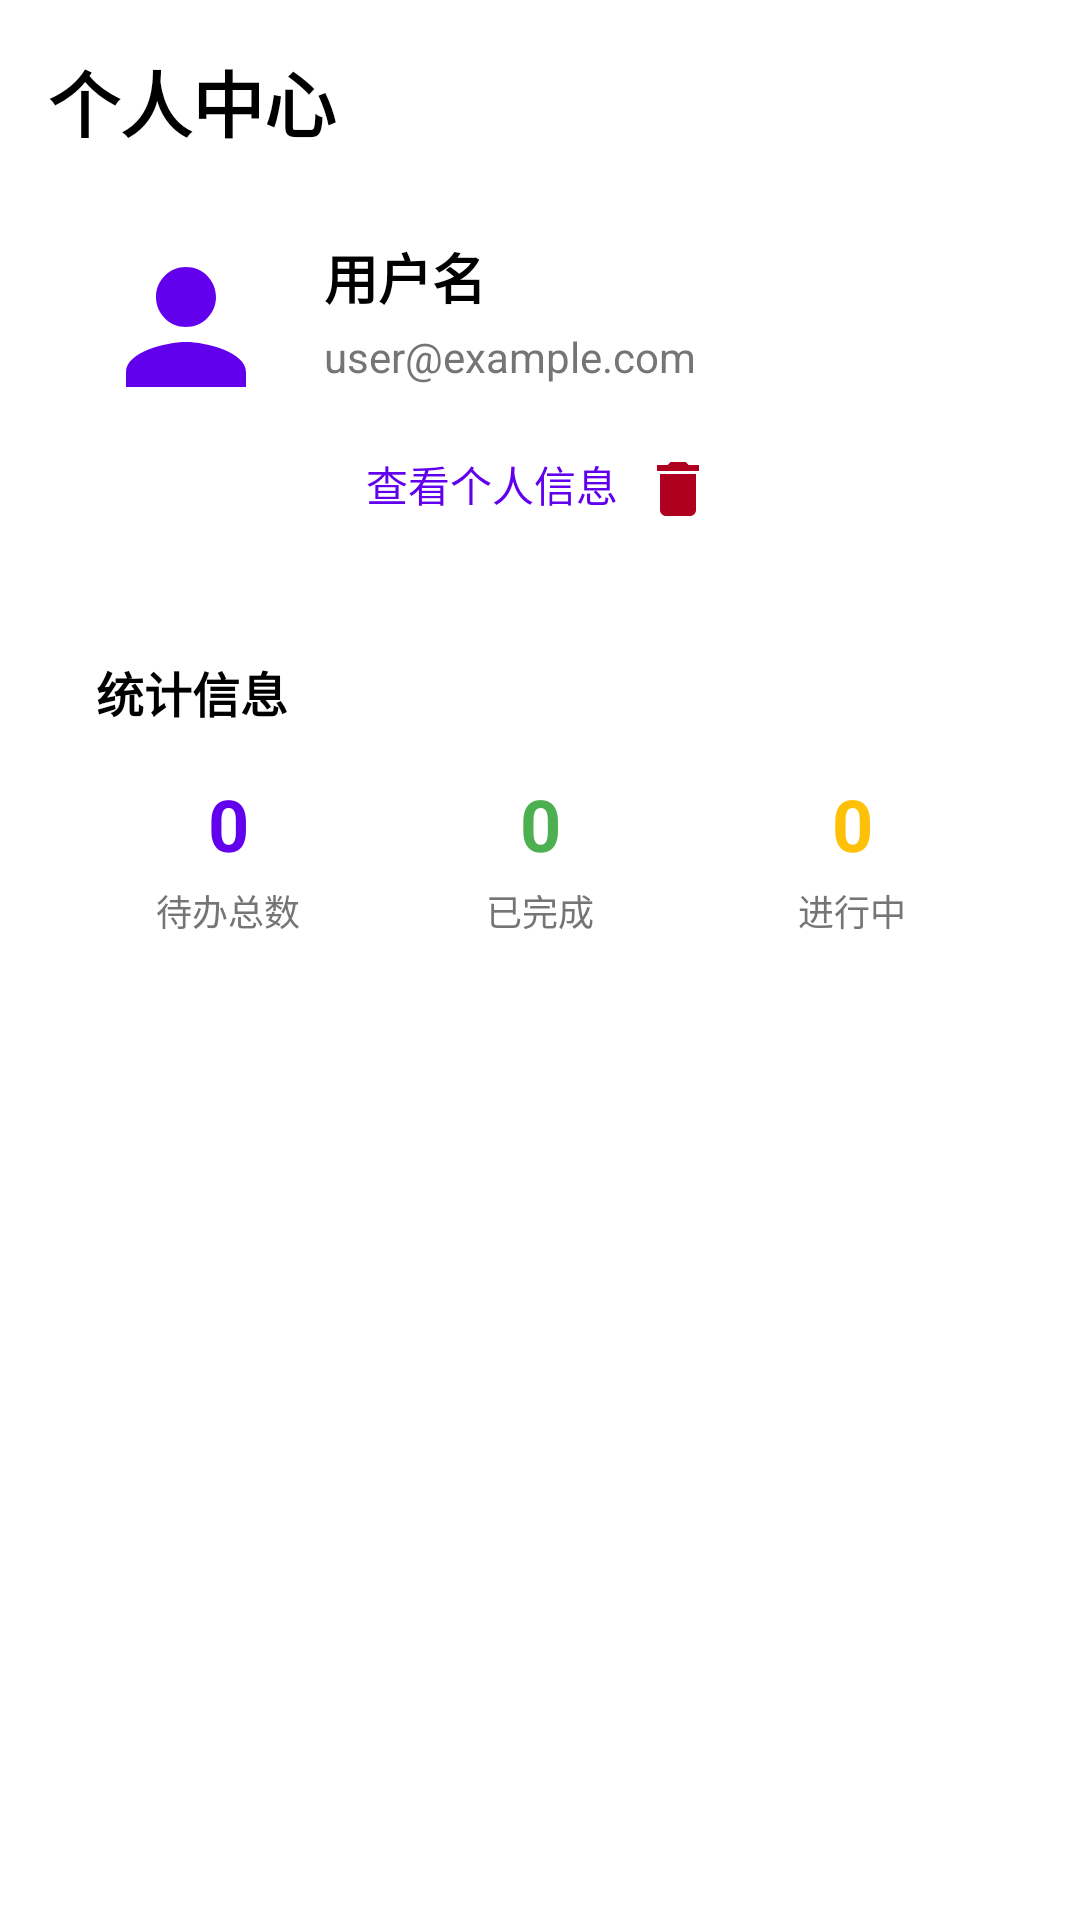

Icon bounding boxes for this 1080w x 1920h phone screenshot, format (x1, y1, x2, y2):
用户头像: (126, 267, 246, 387)
